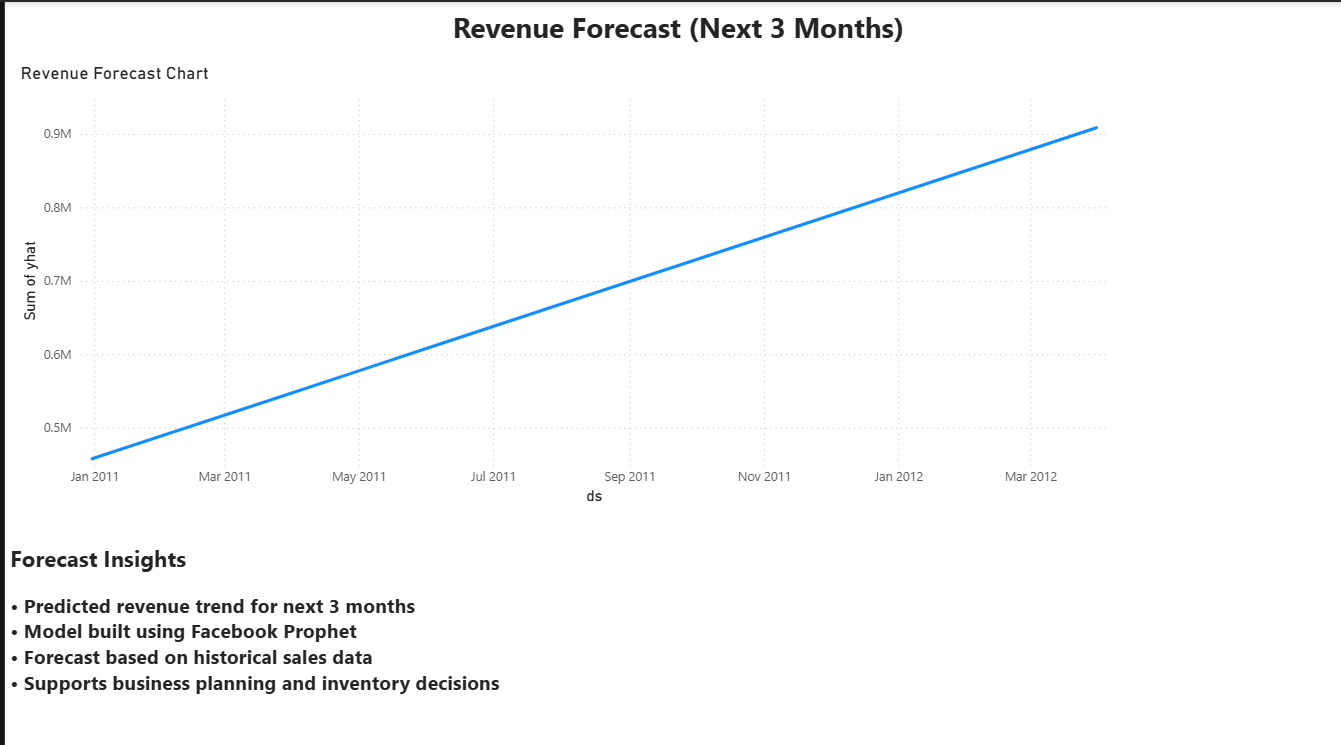

Layout of this report page (visuals, bound fields, positions):
{"tool":"powerbi","page":{"name":"Page 2","canvas":[1280,720],"ordinal":1},"visuals":[{"type":"lineChart","title":"Revenue Forecast Chart","fields":{"Y":["Sum(sales_forecast.yhat)"],"Category":["sales_forecast.ds"]},"box":[10.1,57.4,1065.6,427.9],"z":0},{"type":"textbox","box":[10.1,0,1269.5,57.4],"z":1},{"type":"textbox","box":[0,512.7,1056.9,168],"z":2}]}

Visuals, with their boxes in screenshot pixels (x1, y1, x2, y2), scaled from the page's 1280x720 canvas onto the 1341x745 screenshot:
"Revenue Forecast Chart" lineChart: {"left": 11, "top": 59, "right": 1127, "bottom": 502}
textbox: {"left": 11, "top": 0, "right": 1340, "bottom": 59}
textbox: {"left": 0, "top": 531, "right": 1107, "bottom": 704}
